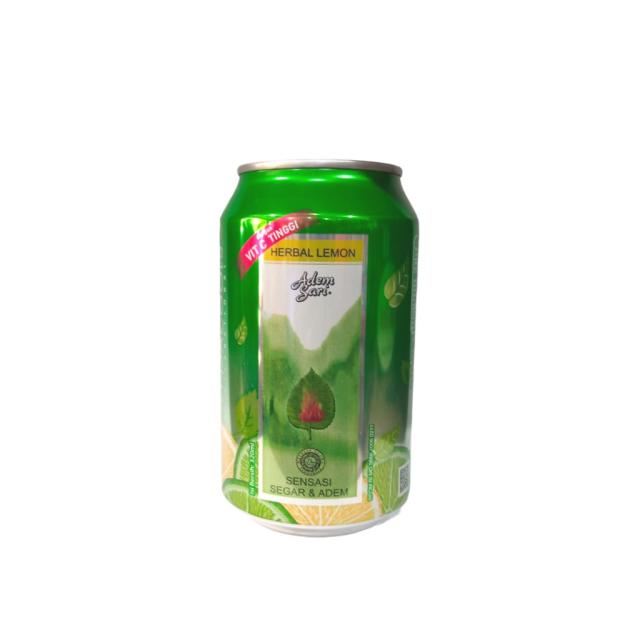ademsarikaleng: (218, 158, 420, 538)
